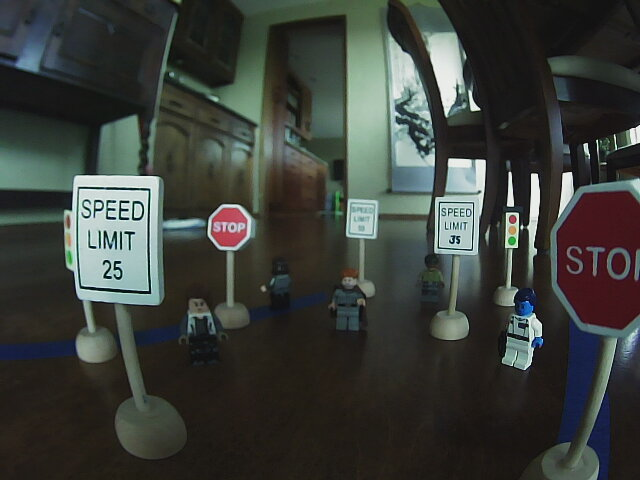SpeedLimit25: (71, 174, 158, 302)
SpeedLimit35: (431, 193, 480, 252)
SpeedLimit55: (345, 195, 378, 239)
StopSign: (551, 183, 640, 337), (208, 203, 256, 253)
TrafficLight: (56, 204, 78, 273), (498, 202, 523, 251)
person: (492, 281, 550, 374), (175, 283, 231, 371), (322, 263, 371, 340), (258, 257, 298, 315), (408, 251, 448, 307)
